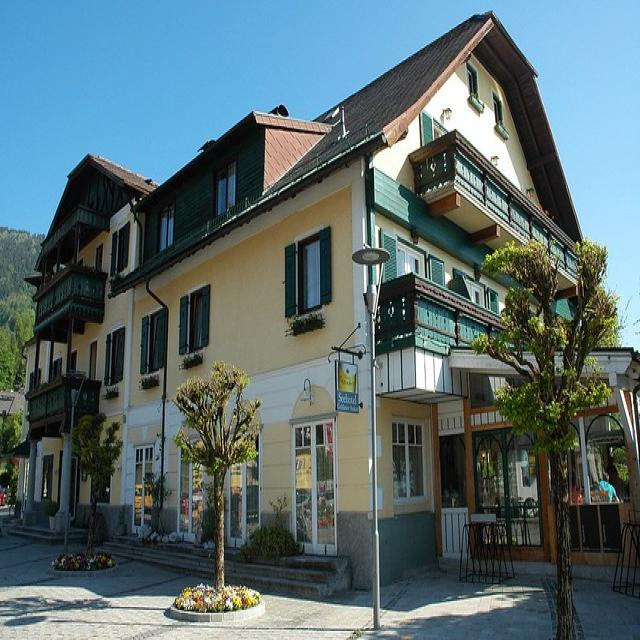building: (14, 11, 602, 608)
